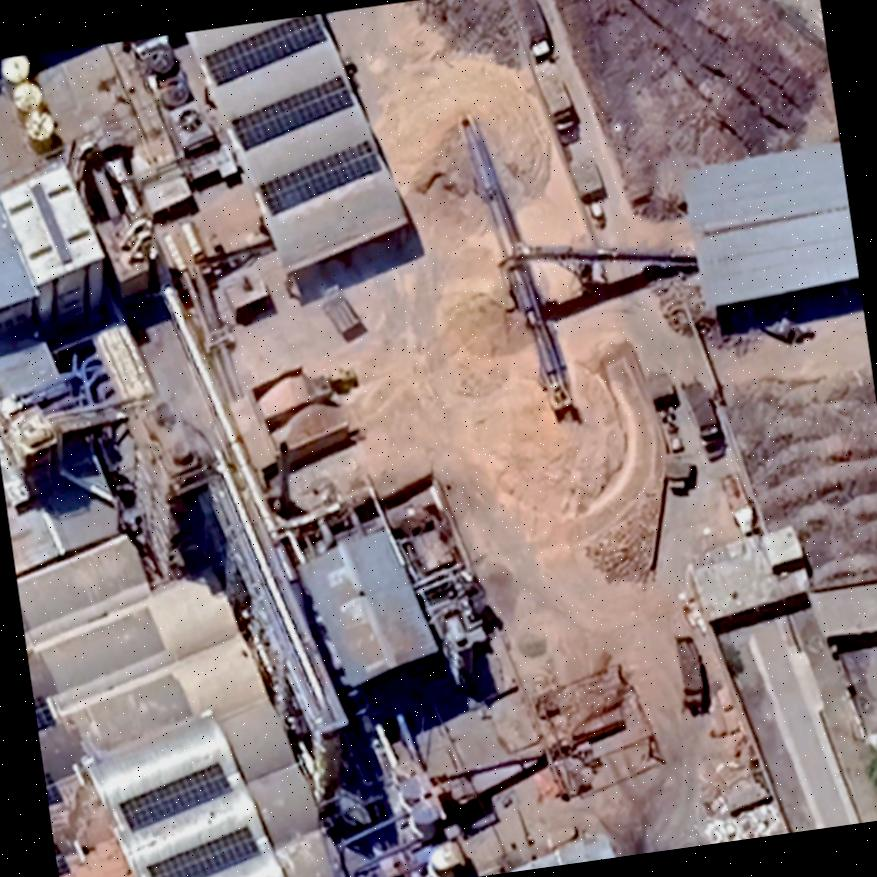Solarpanel: (224, 65, 363, 157), (250, 135, 390, 223), (192, 14, 334, 92), (111, 754, 234, 838), (138, 820, 269, 877)
